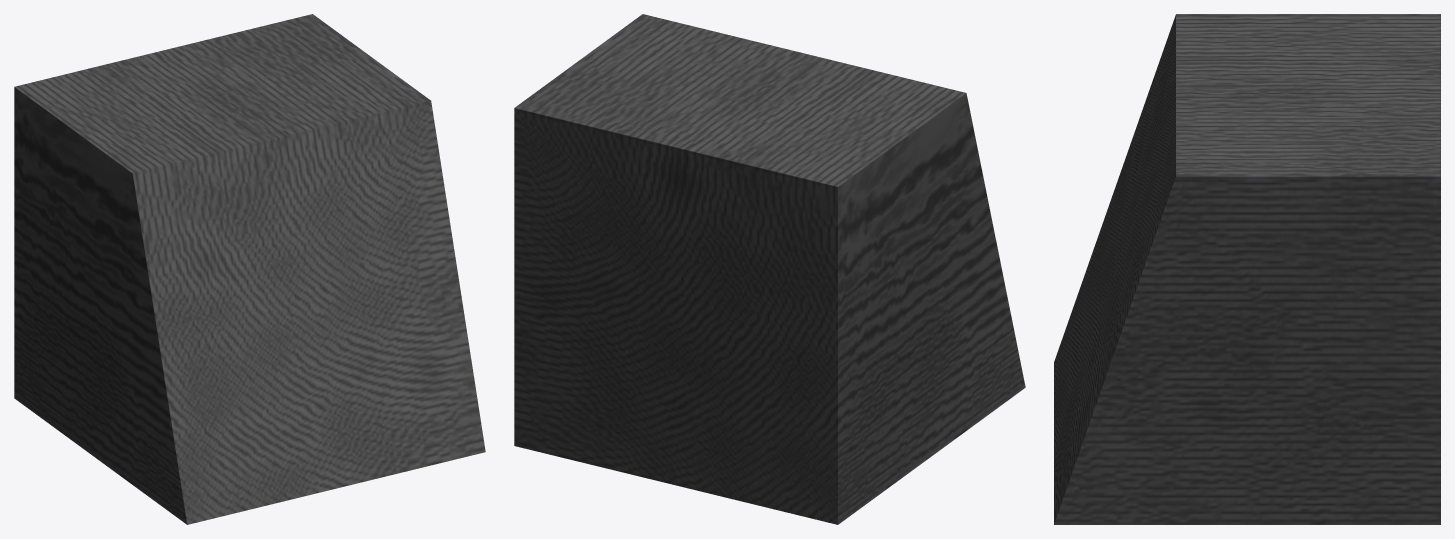
The picture shows the model from 3 angles, left to right: view 1: azimuth 30°, elevation 25°; view 2: azimuth 150°, elevation 25°; view 3: azimuth 270°, elevation 25°; orthographic projection. The views are drawn at different scales.
Parts seen in each view (by area): view 1: 7; view 2: 7; view 3: 7.
Boxes of the visible parts, bbox=[...] form: 7: bbox=[14, 14, 485, 524]; 7: bbox=[514, 14, 1025, 524]; 7: bbox=[1054, 14, 1440, 524].
Bounding box in the file's own units: 2 × 1.99 × 2.01.
Materials: 1 (1 with a texture image).
